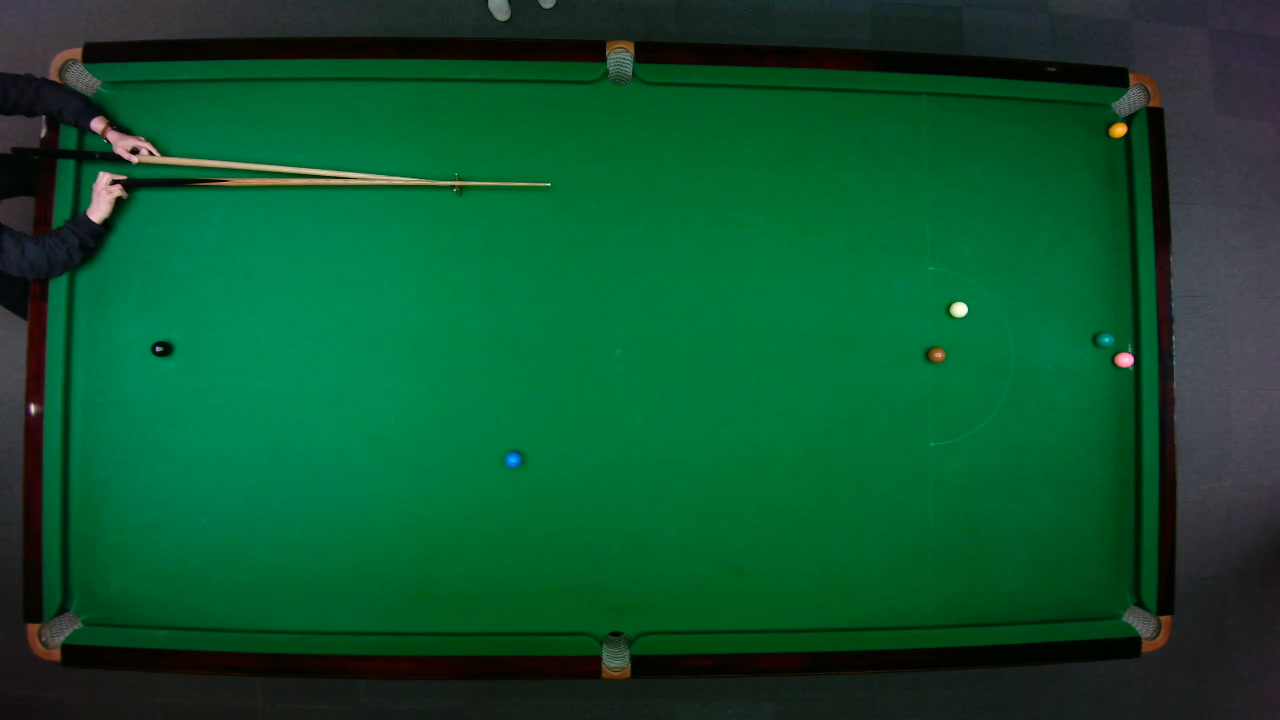bag: (25, 609, 83, 661), (46, 46, 102, 95), (1119, 603, 1171, 652), (1108, 71, 1161, 118), (600, 629, 629, 680), (605, 38, 633, 85)
black: (149, 339, 171, 357)
blue: (503, 449, 523, 468)
brown: (926, 346, 946, 362)
cue: (104, 175, 557, 190)
green: (1093, 330, 1114, 347)
pink: (1112, 350, 1135, 368)
white: (947, 300, 969, 318)
yellow: (1106, 120, 1128, 138)
zone: (927, 265, 1013, 445)
